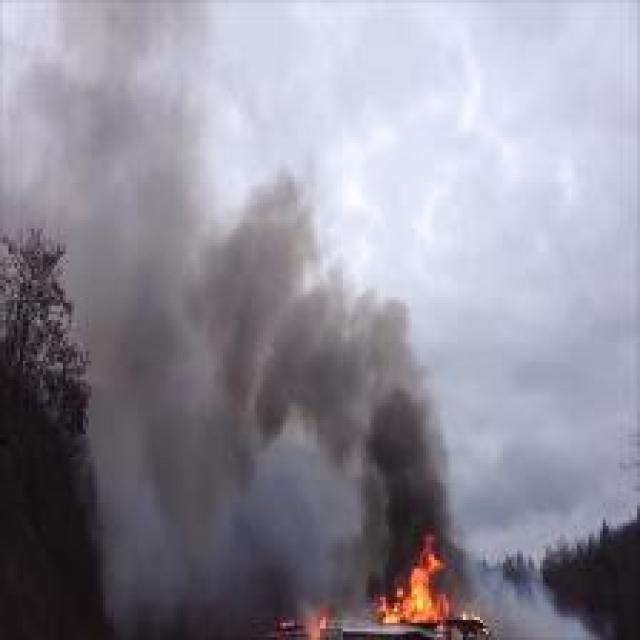fire: (362, 533, 464, 632)
smoke: (6, 126, 458, 529)
